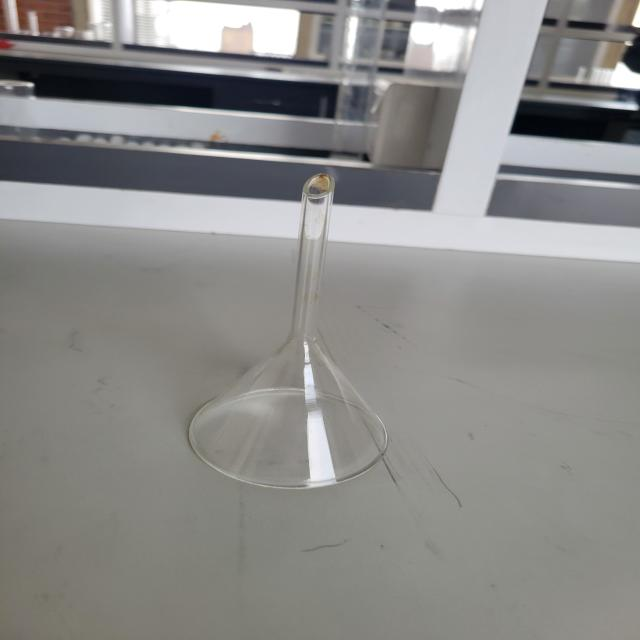Funnel: (132, 137, 454, 516)
